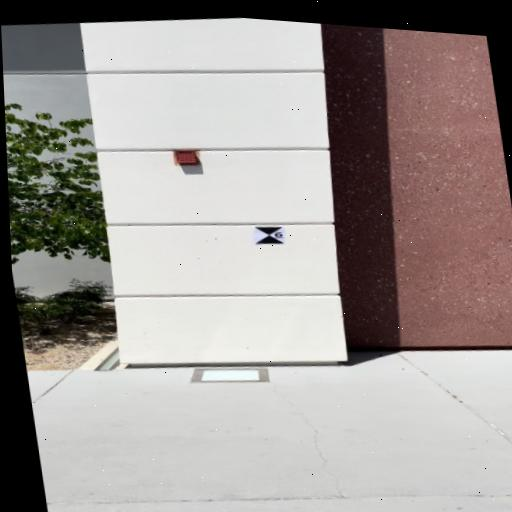target6: (254, 227, 285, 244)
